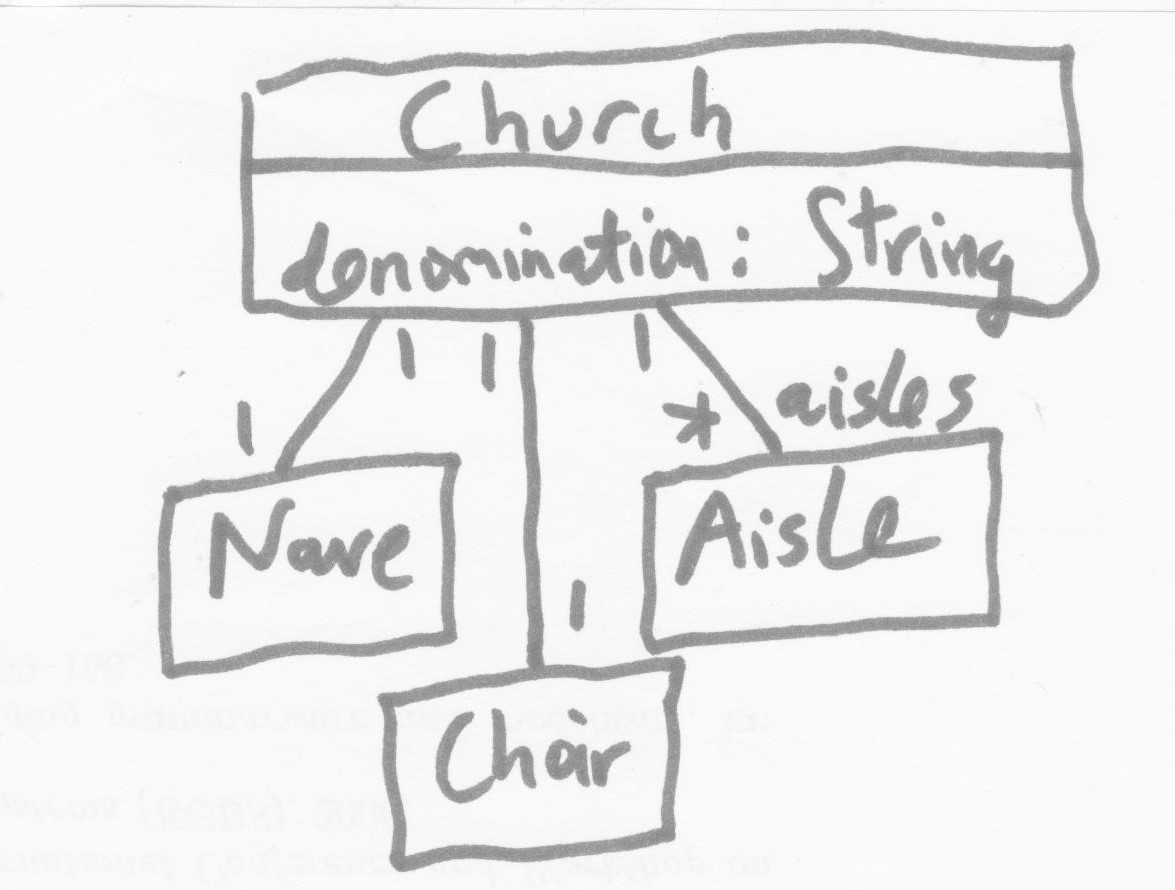association: (629, 301, 979, 459), (473, 318, 595, 669), (229, 314, 424, 474)
class attributes: (232, 21, 1103, 342)
simple class: (638, 425, 1015, 656), (153, 451, 463, 682), (378, 655, 689, 874)
